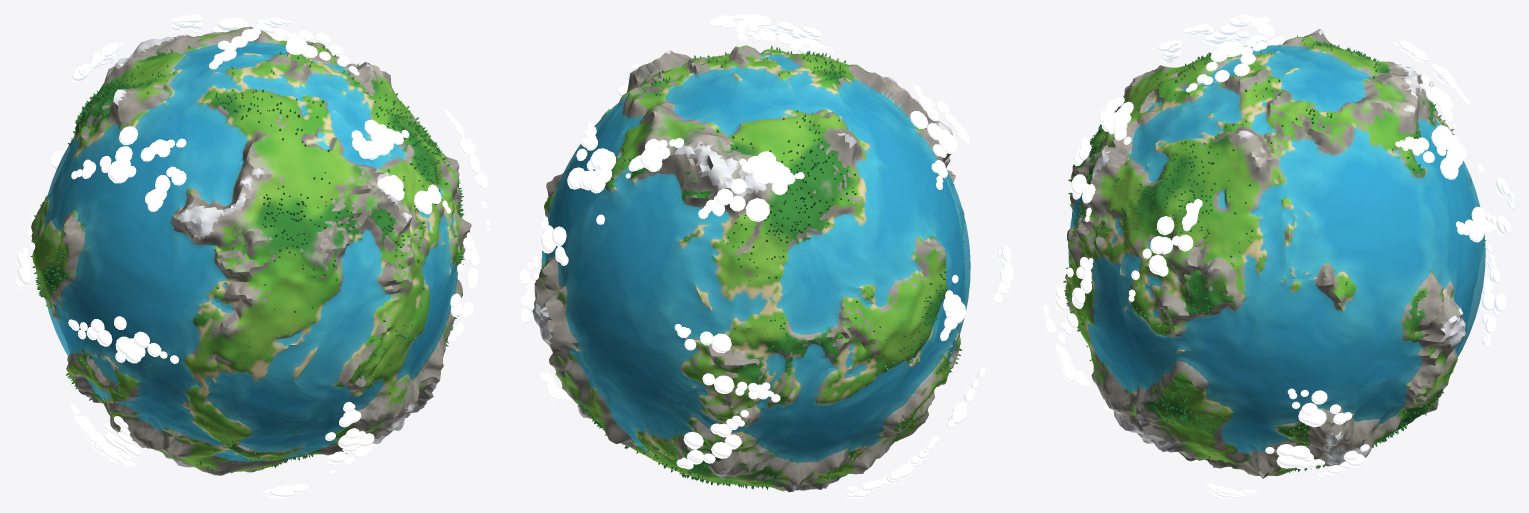
Rendered from earthlike_seed7.glb.
The picture shows the model from 3 angles, left to right: view 1: azimuth 30°, elevation 25°; view 2: azimuth 150°, elevation 25°; view 3: azimuth 270°, elevation 25°; orthographic projection. The views are drawn at different scales.
Parts seen in each view (by area): view 1: Terrain, Ocean, Clouds, Trees; view 2: Terrain, Ocean, Clouds, Trees; view 3: Terrain, Ocean, Clouds, Trees.
Part boxes in pixels (x1=…): Terrain: x1=31, y1=26, x2=471, y2=475; Ocean: x1=43, y1=42, x2=458, y2=461; Clouds: x1=14, y1=14, x2=490, y2=498; Trees: x1=30, y1=41, x2=464, y2=469; Terrain: x1=532, y1=45, x2=966, y2=492; Ocean: x1=541, y1=53, x2=970, y2=462; Clouds: x1=519, y1=14, x2=1013, y2=498; Trees: x1=535, y1=45, x2=962, y2=489; Terrain: x1=1065, y1=29, x2=1482, y2=478; Ocean: x1=1068, y1=45, x2=1485, y2=453; Clouds: x1=1042, y1=14, x2=1514, y2=498; Trees: x1=1063, y1=35, x2=1485, y2=472.
Size of the model in its own units: 23.49 by 22.74 by 22.67.
